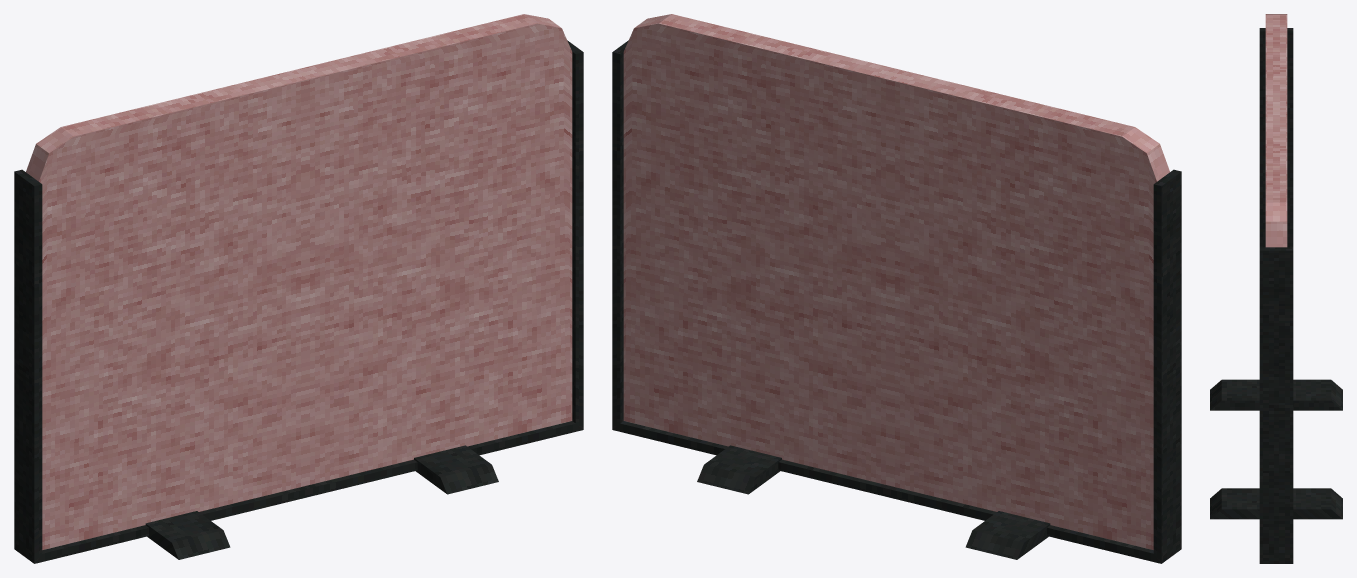
Rendered from divider_black_red_low_half.glb.
The picture shows the model from 3 angles, left to right: view 1: azimuth 30°, elevation 25°; view 2: azimuth 150°, elevation 25°; view 3: azimuth 270°, elevation 25°; orthographic projection. The views are drawn at different scales.
Visible parts, largest first — view 1: divider_black_red_low_half; view 2: divider_black_red_low_half; view 3: divider_black_red_low_half.
Part boxes in pixels (x1=…): divider_black_red_low_half: x1=14, y1=14, x2=583, y2=563; divider_black_red_low_half: x1=612, y1=14, x2=1181, y2=563; divider_black_red_low_half: x1=1210, y1=14, x2=1342, y2=563.
Bounding box in the file's own units: 2.07 × 1.5 × 0.523.
Materials: 1 (1 with a texture image).
